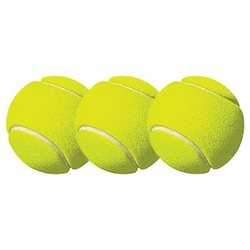tennis_ball: (147, 76, 246, 172), (73, 75, 164, 173), (6, 76, 93, 174)
